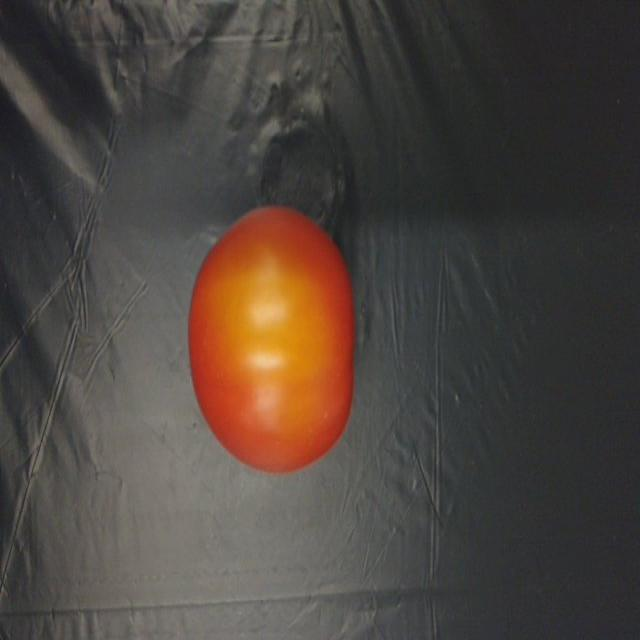sari: (188, 189, 366, 474)
